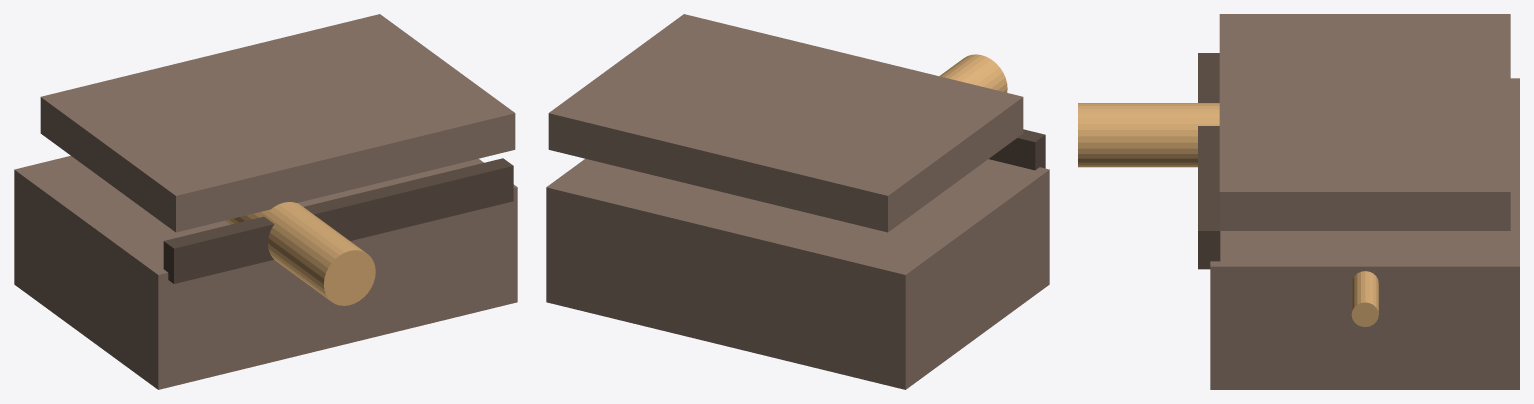
Rendered from oddity_0003.glb.
3 renders of one model, left to right at view 1: azimuth 30°, elevation 25°; view 2: azimuth 150°, elevation 25°; view 3: azimuth 270°, elevation 25°, orthographic. The views are drawn at different scales.
Visible parts, largest first — view 1: oddity_0003_music_box_lid, oddity_0003_music_box_base, oddity_0003_music_box_shadow_gap, oddity_0003_music_box_cylinder; view 2: oddity_0003_music_box_base, oddity_0003_music_box_lid, oddity_0003_music_box_cylinder, oddity_0003_music_box_shadow_gap; view 3: oddity_0003_music_box_lid, oddity_0003_music_box_base, oddity_0003_music_box_cylinder, oddity_0003_music_box_shadow_gap, oddity_0003_music_box_crank.
Part boxes in pixels (bbox=[...]): oddity_0003_music_box_lid: bbox=[40, 14, 515, 232]; oddity_0003_music_box_base: bbox=[14, 155, 517, 389]; oddity_0003_music_box_shadow_gap: bbox=[163, 158, 513, 283]; oddity_0003_music_box_cylinder: bbox=[225, 202, 375, 305]; oddity_0003_music_box_base: bbox=[546, 159, 1049, 389]; oddity_0003_music_box_lid: bbox=[548, 14, 1023, 232]; oddity_0003_music_box_cylinder: bbox=[939, 54, 1007, 92]; oddity_0003_music_box_shadow_gap: bbox=[989, 129, 1045, 170]; oddity_0003_music_box_lid: bbox=[1219, 14, 1510, 230]; oddity_0003_music_box_base: bbox=[1210, 78, 1519, 389]; oddity_0003_music_box_cylinder: bbox=[1078, 103, 1219, 167]; oddity_0003_music_box_shadow_gap: bbox=[1198, 53, 1220, 269]; oddity_0003_music_box_crank: bbox=[1351, 271, 1378, 326].
Size of the model in its own units: 0.42 by 0.1775 by 0.357.
